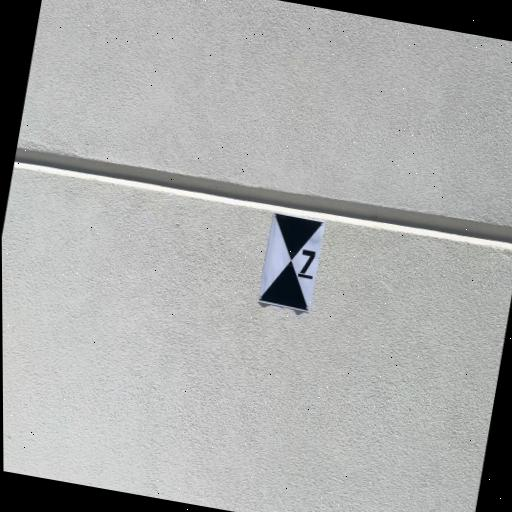target7: (258, 212, 325, 313)
